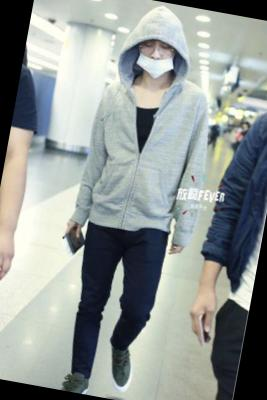mask_weared_incorrect: (133, 39, 179, 82)
